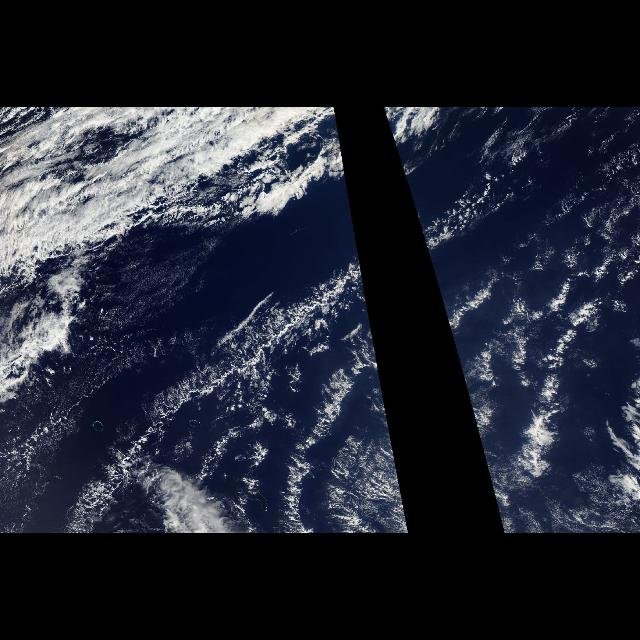Fish: (31, 156, 407, 514), (396, 152, 640, 528)
Sugar: (101, 232, 211, 344)
